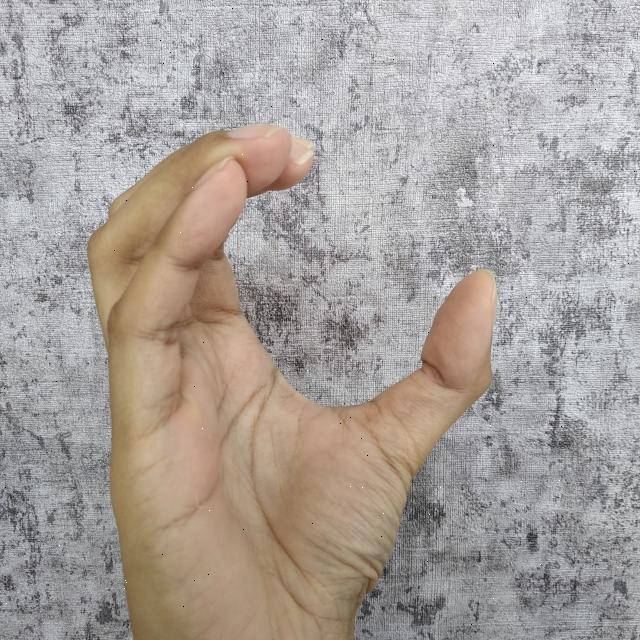C: (89, 117, 502, 640)
